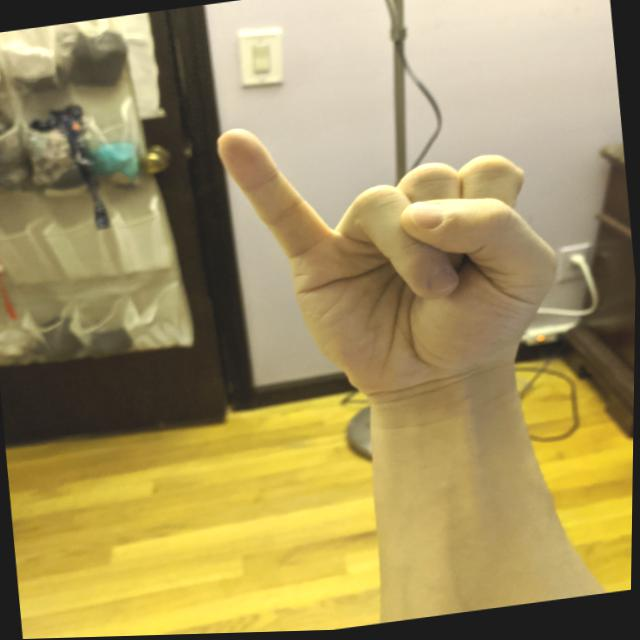I: (203, 81, 585, 428)
